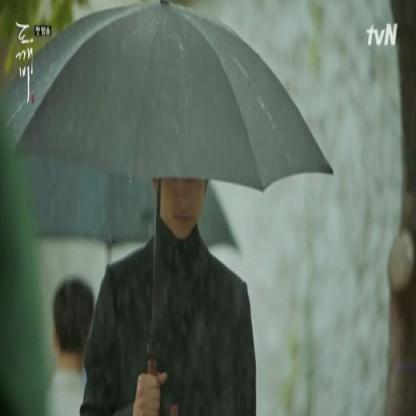Umbrella: (0, 0, 351, 243)
